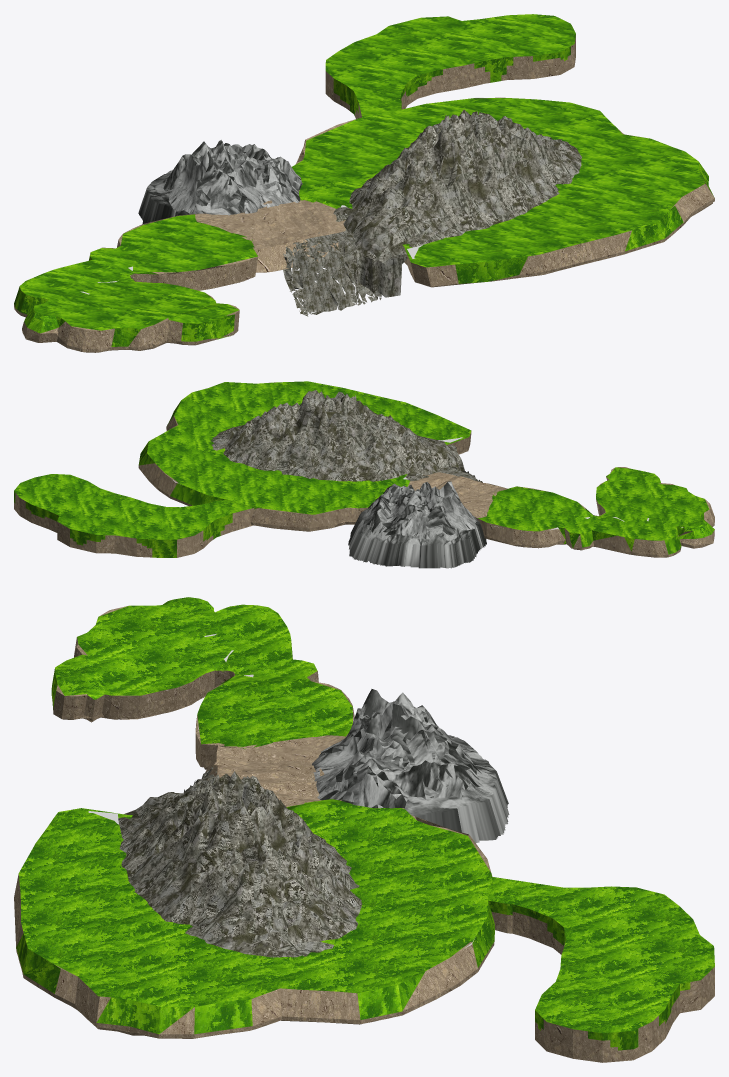
Rendered from map1.glb.
3 renders of one model, top to bottom at view 1: azimuth 30°, elevation 25°; view 2: azimuth 150°, elevation 25°; view 3: azimuth 270°, elevation 25°, orthographic. The views are drawn at different scales.
Parts seen in each view (by area): view 1: Landscape.001, Landscape.002, Landscape.033; view 2: Landscape.001, Landscape.002; view 3: Landscape.001, Landscape.002.
Boxes of the visible parts, <box> form: Landscape.001: <box>14,14,713,346</box>; Landscape.002: <box>14,35,714,352</box>; Landscape.033: <box>283,229,381,316</box>; Landscape.001: <box>14,381,714,568</box>; Landscape.002: <box>14,416,714,557</box>; Landscape.001: <box>16,597,714,1050</box>; Landscape.002: <box>14,637,714,1062</box>.
Size of the model in its own units: 1799 by 322 by 1197.
4 materials, 4 textured.
